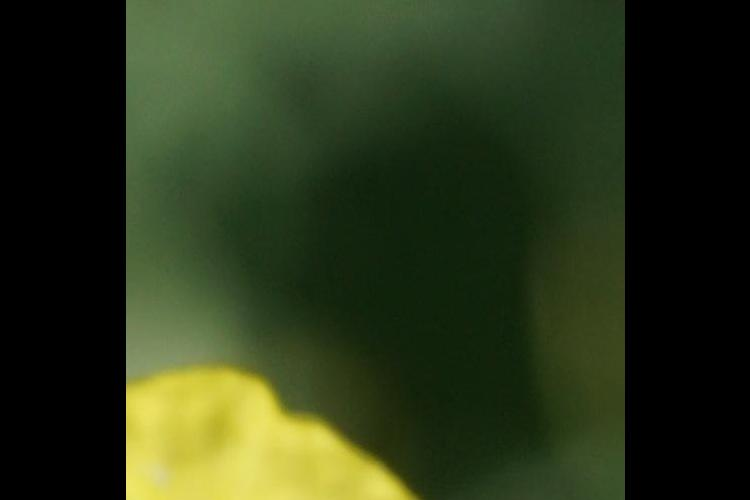yellow: (132, 369, 454, 500)
